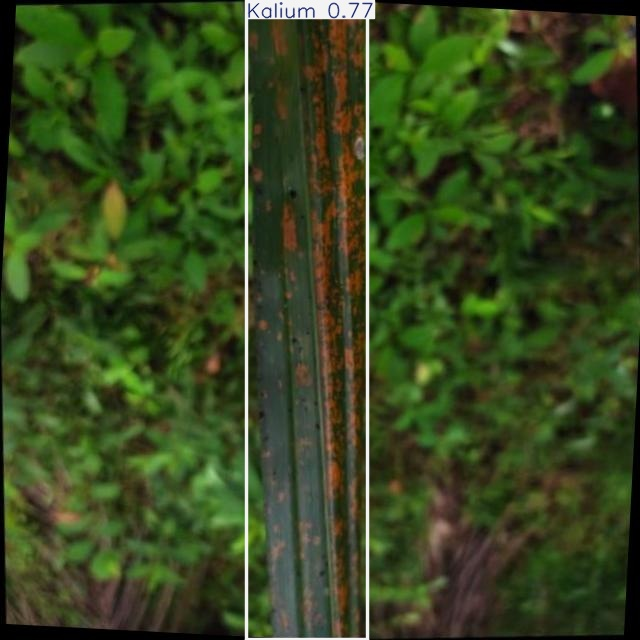Kalium: (247, 1, 368, 640)
